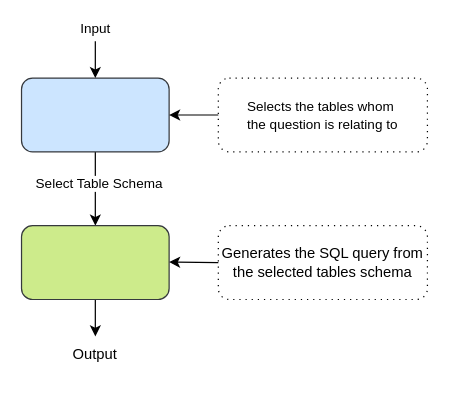
The diagram is 449 pixels wide and 395 high, and some of its shapes have lost their labels. Each missing label, with the centre of its shape:
Model first Step: pixel 94 114
Model Second Step: pixel 94 262
